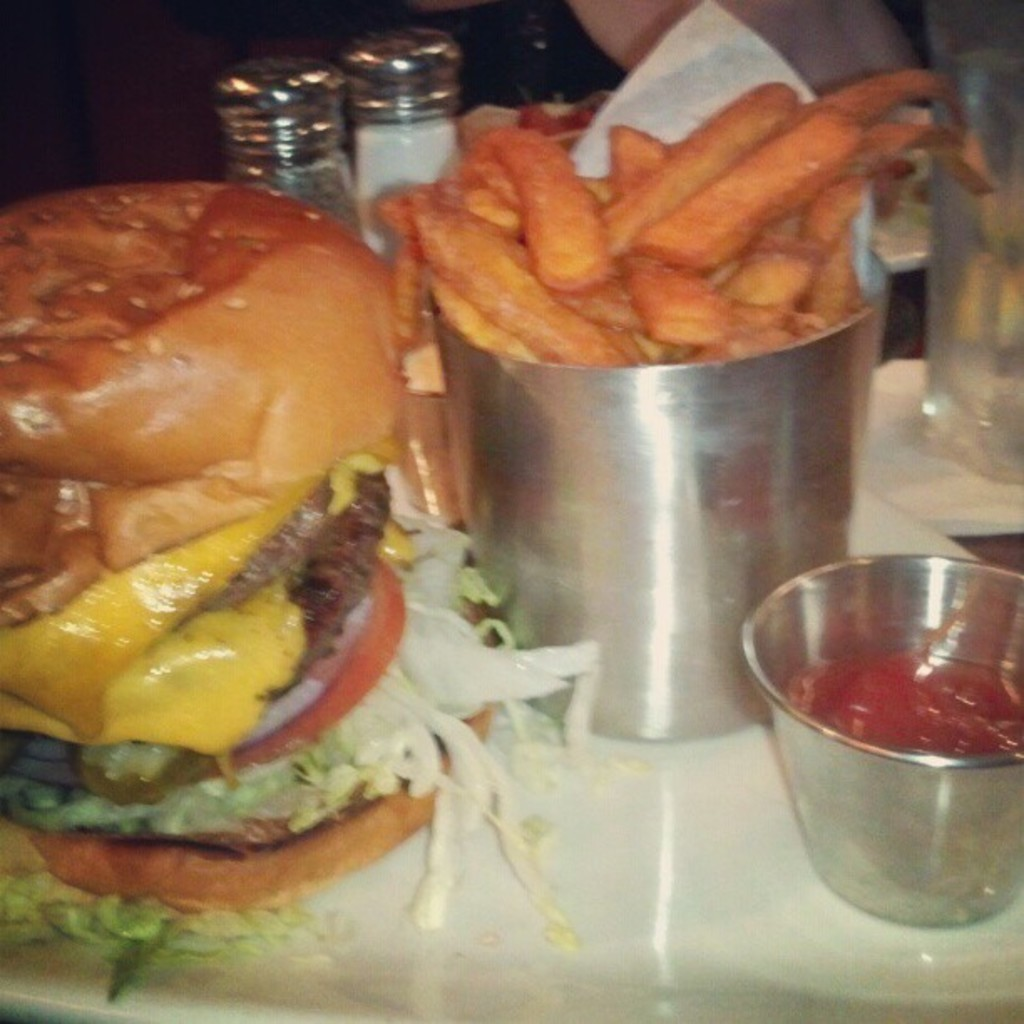French fries: (371, 48, 1000, 383)
